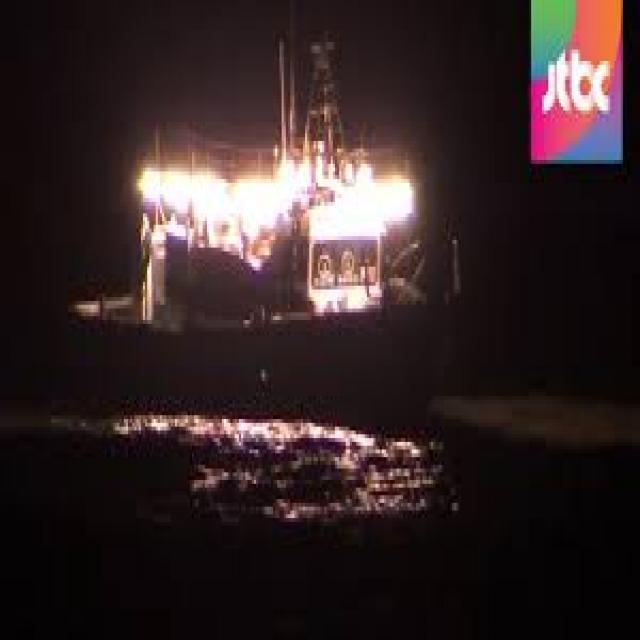Ship: (44, 12, 484, 447)
